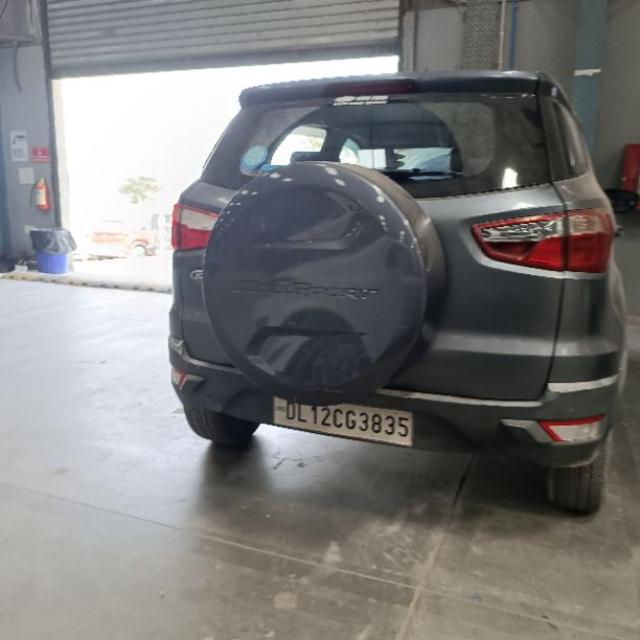license_plate: (270, 394, 415, 448)
